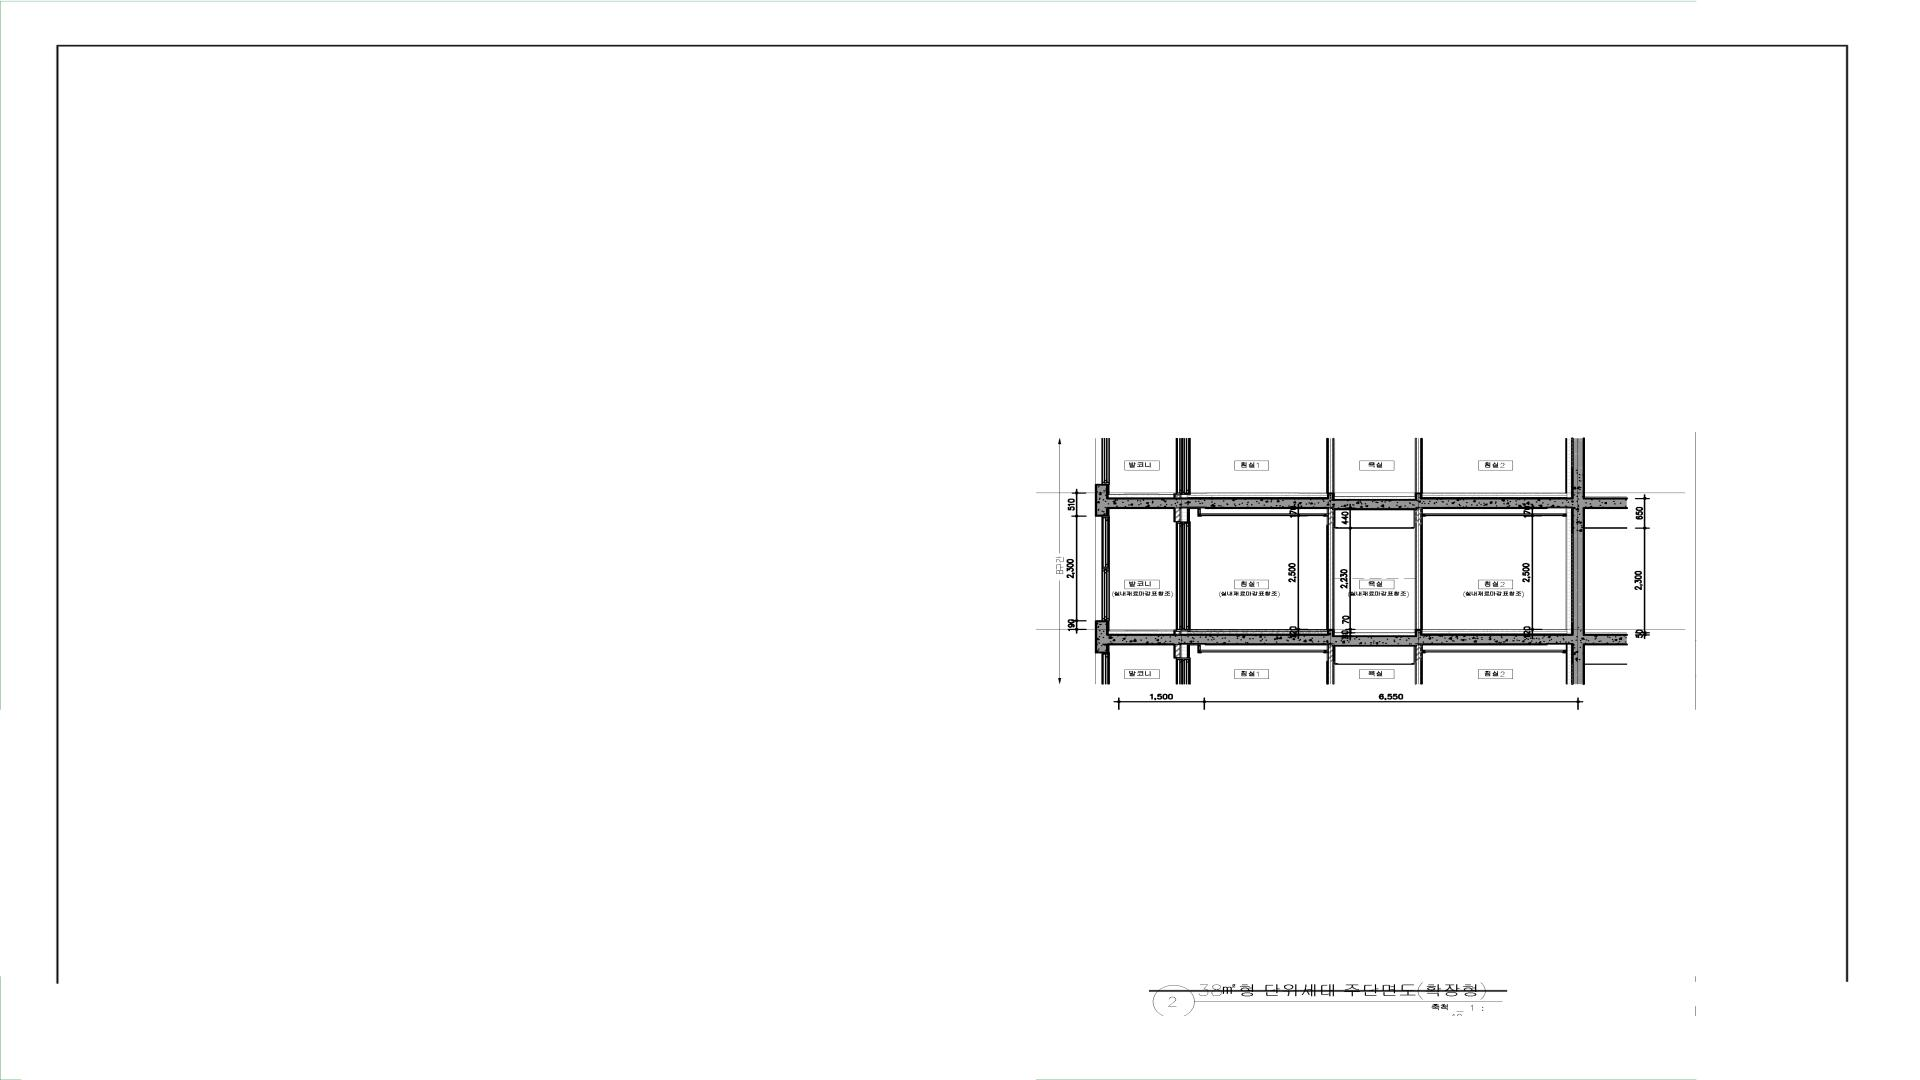wall: (1095, 493, 1585, 645), (1326, 509, 1335, 629), (1414, 509, 1422, 630), (1173, 509, 1181, 521), (1173, 630, 1181, 634)
window: (1176, 521, 1191, 630), (1096, 516, 1110, 621)
